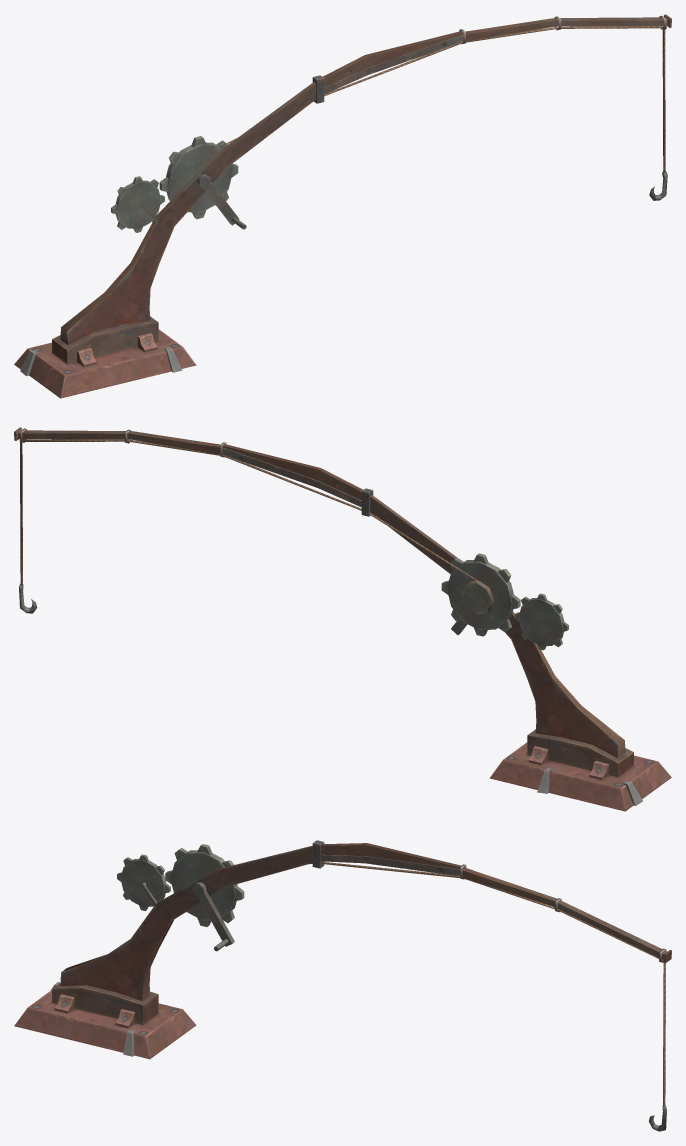
Rendered from Homeworld_Exterior_Fd_Decoration_Prop_Fishingrod_01_Vo.fbx.
3 renders of one model, top to bottom at view 1: azimuth 30°, elevation 25°; view 2: azimuth 150°, elevation 25°; view 3: azimuth 330°, elevation 25°, orthographic.
Parts seen in each view (by area): view 1: Homeworld_Exterior_Fd_Decoration_Prop_Fishingrod_01_Vo; view 2: Homeworld_Exterior_Fd_Decoration_Prop_Fishingrod_01_Vo; view 3: Homeworld_Exterior_Fd_Decoration_Prop_Fishingrod_01_Vo.
Part boxes in pixels (bbox=[...]): Homeworld_Exterior_Fd_Decoration_Prop_Fishingrod_01_Vo: bbox=[14, 14, 671, 398]; Homeworld_Exterior_Fd_Decoration_Prop_Fishingrod_01_Vo: bbox=[14, 427, 671, 811]; Homeworld_Exterior_Fd_Decoration_Prop_Fishingrod_01_Vo: bbox=[14, 840, 671, 1131].
Bounding box in the file's own units: 7.03 × 2.61 × 0.9736.
2 materials, 2 textured.
